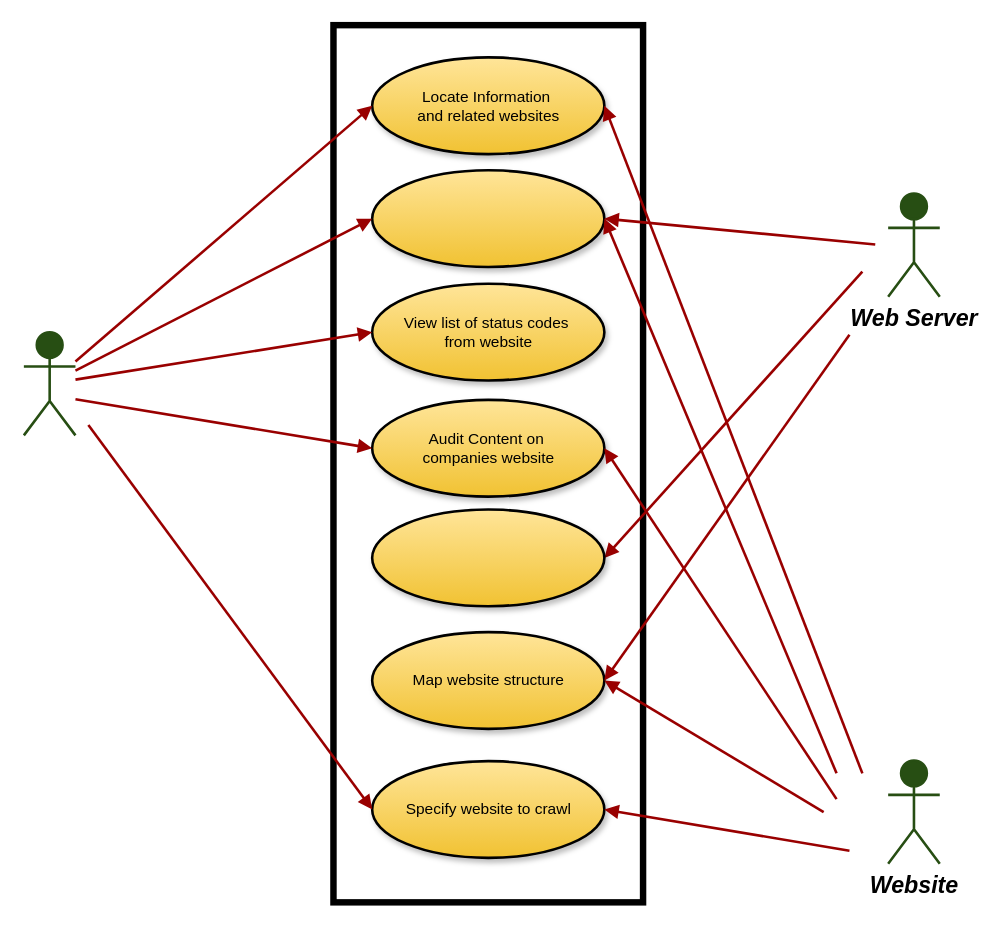
Image size: 1000x928. Some labels were removed from this diagram. Here are the shapes that lost their labels. From the top down, the centre of each, then its label:
At [489,220]: "Automatically download resources from a web page".
At [49,383]: "User".
At [489,559]: "Return website status code".
